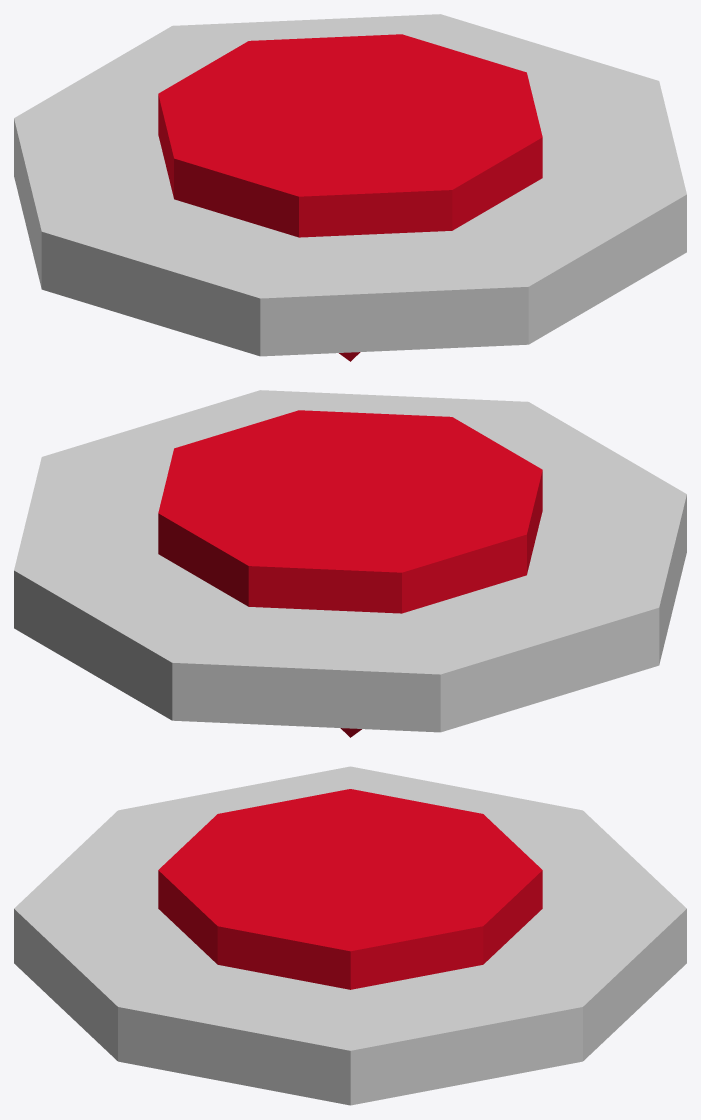
File: Bey.glb
3 views of the same model, one above another, from view 1: azimuth 30°, elevation 25°; view 2: azimuth 150°, elevation 25°; view 3: azimuth 270°, elevation 25° (orthographic). The views are drawn at different scales.
Visible parts, largest first — view 1: Blade; view 2: Blade; view 3: Blade.
Boxes of the visible parts, box(x1,y1,x2,y2) form: Blade: box(14, 14, 686, 361); Blade: box(14, 390, 686, 737); Blade: box(14, 766, 686, 1105).
Size of the model in its own units: 2 by 0.7626 by 2.
